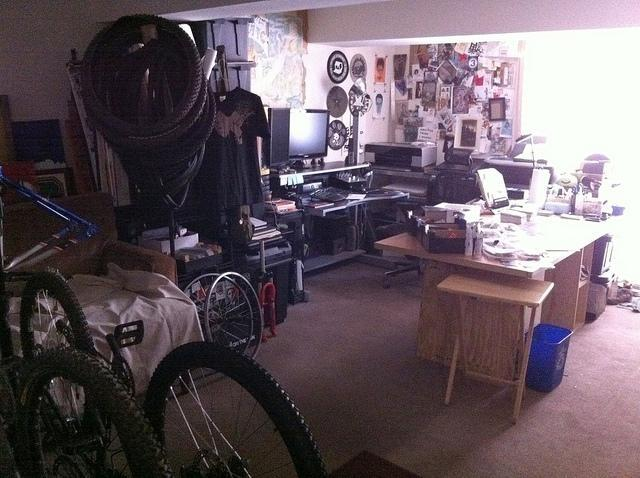bicycle: (19, 269, 330, 478), (0, 342, 173, 478)
